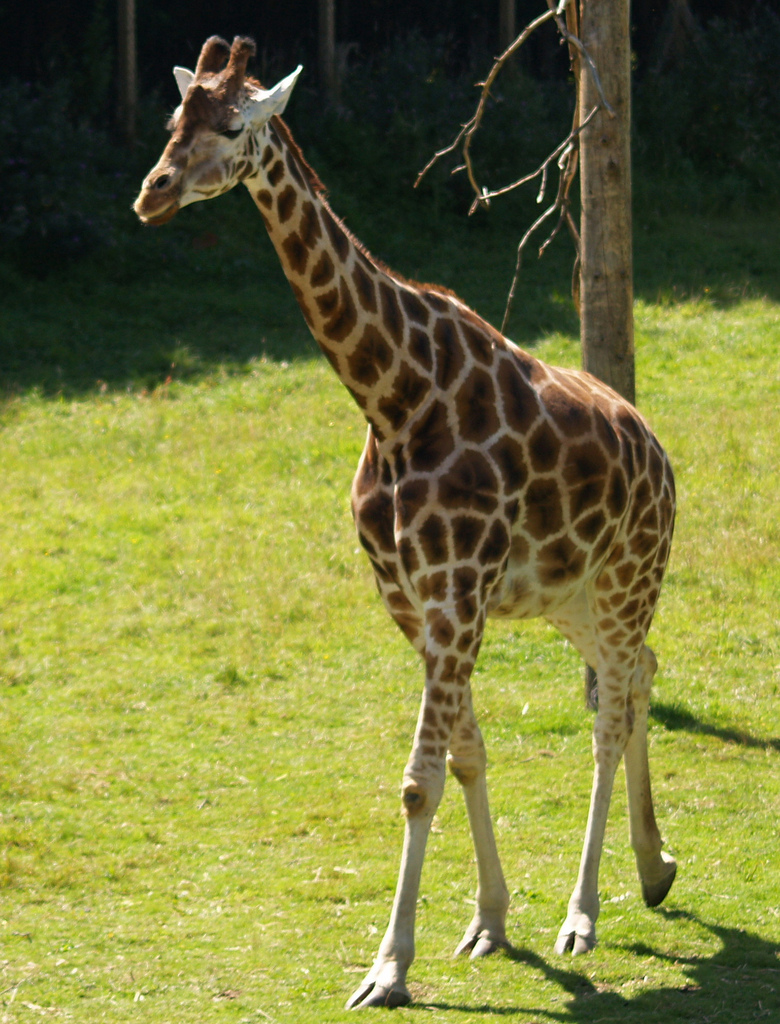giraffe: (128, 38, 709, 955)
